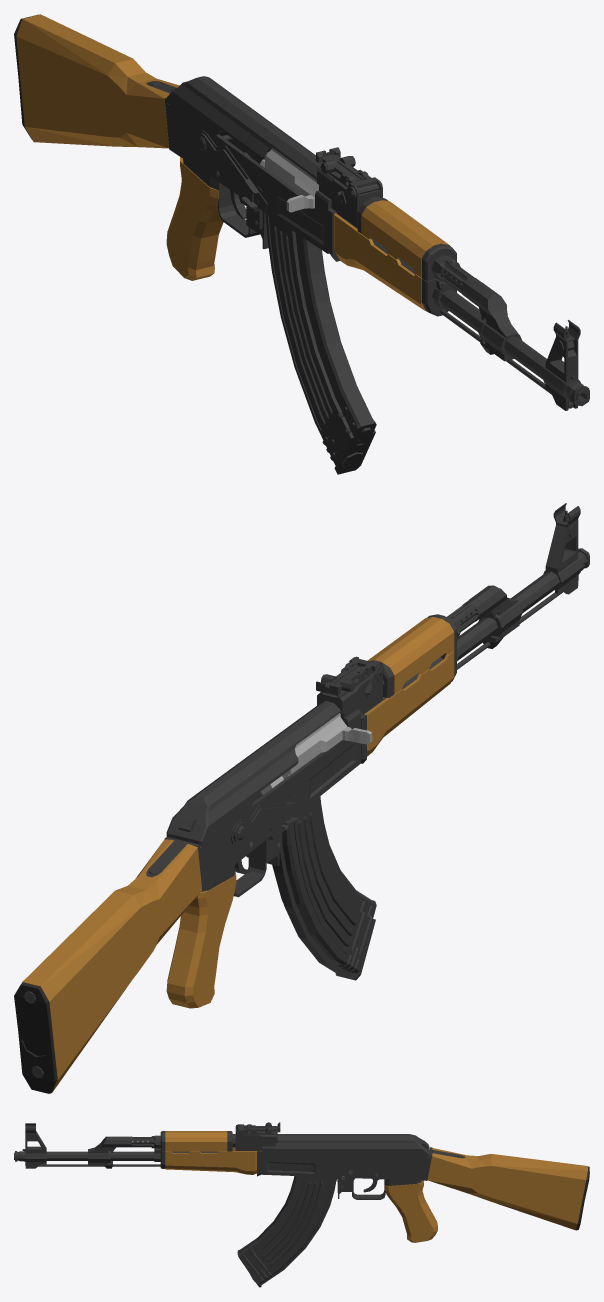
The picture shows the model from 3 angles, top to bottom: view 1: azimuth 30°, elevation 25°; view 2: azimuth 150°, elevation 25°; view 3: azimuth 270°, elevation 25°; orthographic projection. The views are drawn at different scales.
Parts seen in each view (by area): view 1: AK-47 2, AK-47 2 Buttstock 1, AK-47 2 Magazine 1, AK-47 2 Selector 1, AK-47 2 Bolt Carrier 1, AK-47 2 Rearsight 1; view 2: AK-47 2, AK-47 2 Buttstock 1, AK-47 2 Magazine 1, AK-47 2 Bolt Carrier 1, AK-47 2 Selector 1; view 3: AK-47 2, AK-47 2 Buttstock 1, AK-47 2 Magazine 1, AK-47 2 Cleaning Rod 1.
Boxes of the visible parts, bbox=[...] form: AK-47 2: bbox=[164, 76, 589, 410]; AK-47 2 Buttstock 1: bbox=[14, 14, 179, 148]; AK-47 2 Magazine 1: bbox=[265, 213, 376, 474]; AK-47 2 Selector 1: bbox=[197, 130, 267, 213]; AK-47 2 Bolt Carrier 1: bbox=[264, 148, 318, 212]; AK-47 2 Rearsight 1: bbox=[316, 147, 364, 181]; AK-47 2: bbox=[164, 503, 589, 1008]; AK-47 2 Buttstock 1: bbox=[14, 839, 202, 1093]; AK-47 2 Magazine 1: bbox=[272, 796, 376, 980]; AK-47 2 Bolt Carrier 1: bbox=[282, 713, 372, 779]; AK-47 2 Selector 1: bbox=[231, 801, 301, 846]; AK-47 2: bbox=[14, 1123, 437, 1242]; AK-47 2 Buttstock 1: bbox=[427, 1148, 589, 1230]; AK-47 2 Magazine 1: bbox=[237, 1176, 338, 1287]; AK-47 2 Cleaning Rod 1: bbox=[38, 1164, 160, 1166].
Size of the model in its own units: 0.0667 by 0.3193 by 1.04.
